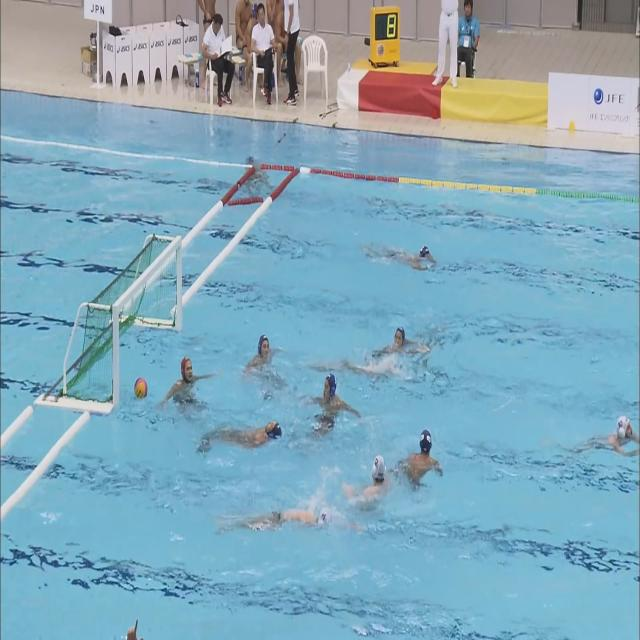ball: (134, 377, 148, 398)
